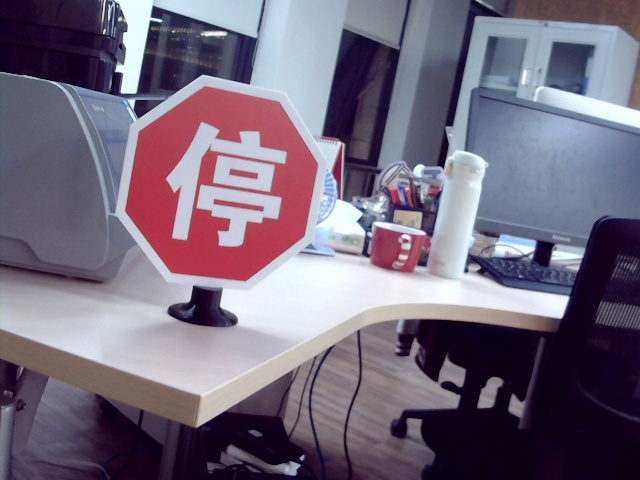stop: (167, 114, 280, 248)
